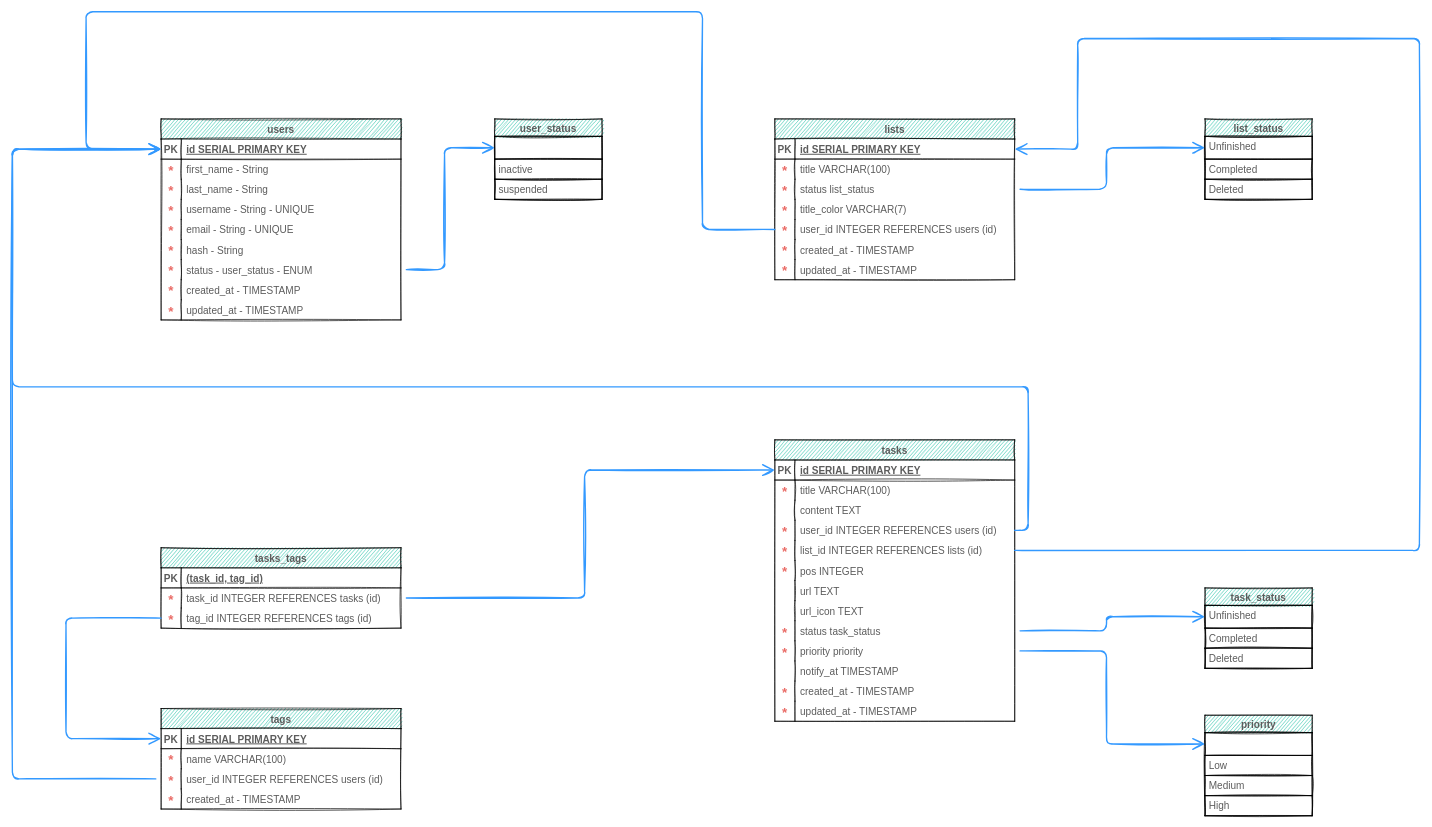
Some shapes in this 1432 by 827 pixel diagram are drawn without their labels. The shapes that lost their labels are listed below. From the top down, each one's centre as x and y in pixels, then its label:
At (x=548, y=147): "active".
At (x=1258, y=743): "None".
